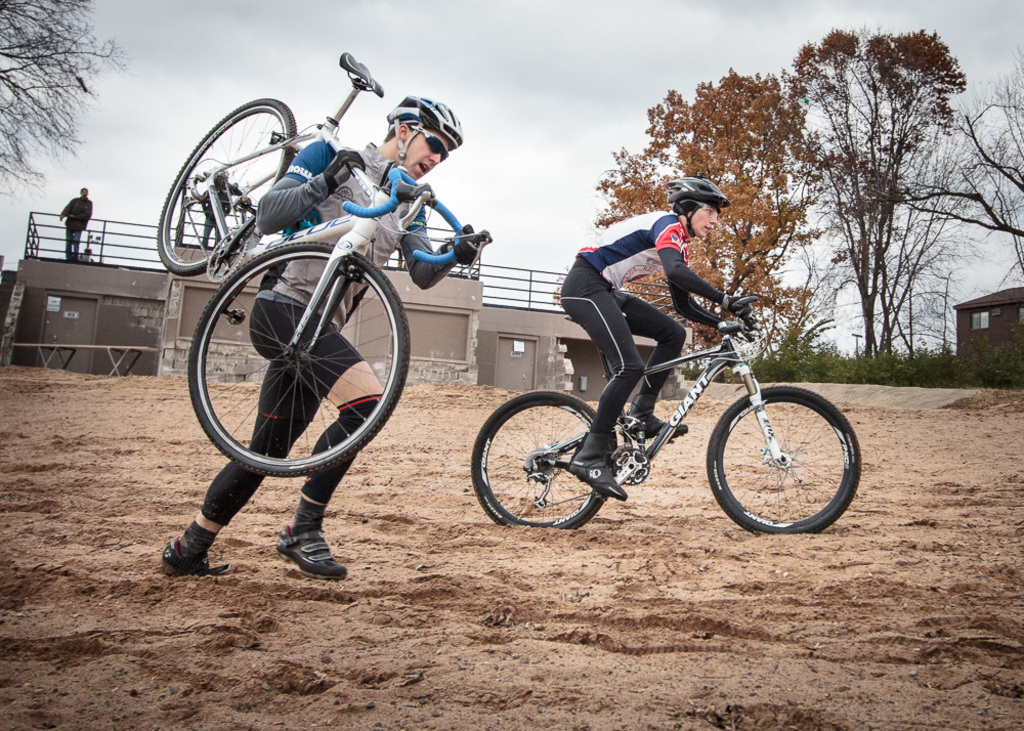Bike: (172, 81, 445, 497)
